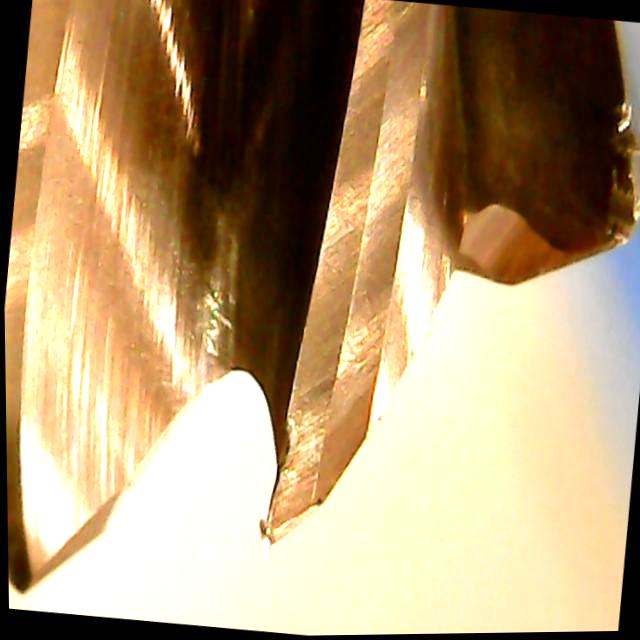Tool-wear-class-1: (240, 317, 389, 558)
